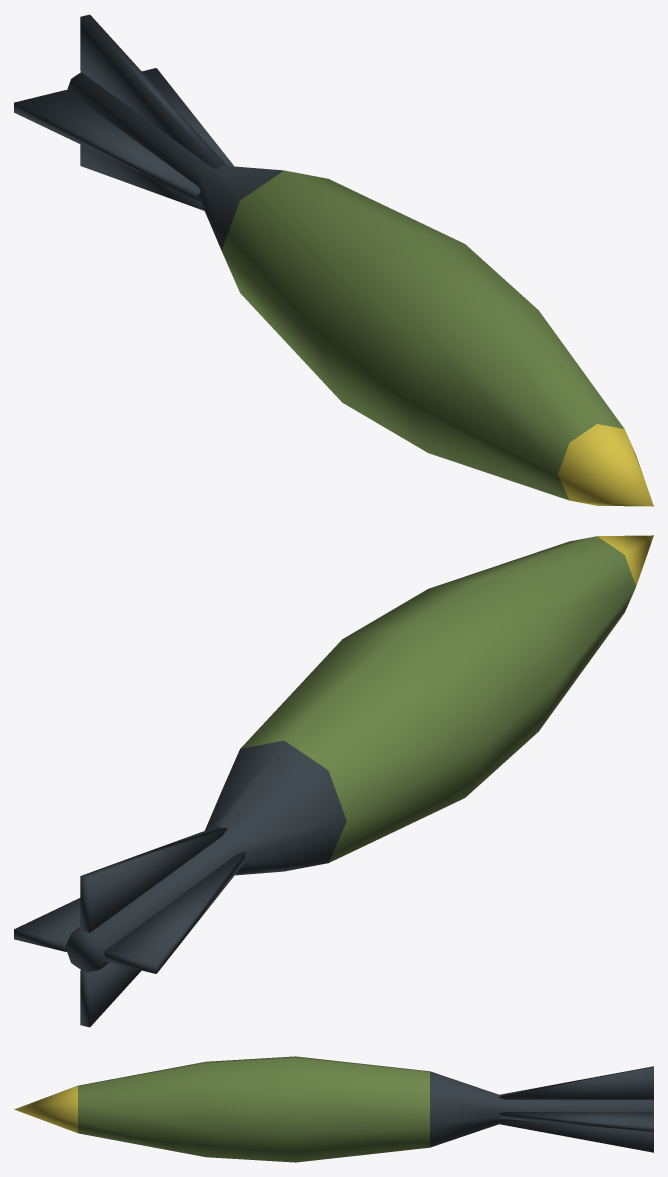
The model's file is mortar_120_projectile_game.glb.
3 renders of one model, top to bottom at view 1: azimuth 30°, elevation 25°; view 2: azimuth 150°, elevation 25°; view 3: azimuth 270°, elevation 25°, orthographic. The views are drawn at different scales.
Visible parts, largest first — view 1: AMMO_MESH.034; view 2: AMMO_MESH.034; view 3: AMMO_MESH.034.
Part boxes in pixels (<box>): AMMO_MESH.034: <box>14,14,653,506</box>; AMMO_MESH.034: <box>14,535,653,1027</box>; AMMO_MESH.034: <box>14,1056,653,1162</box>.
Bounding box in the file's own units: 0.12 × 0.12 × 0.68.
